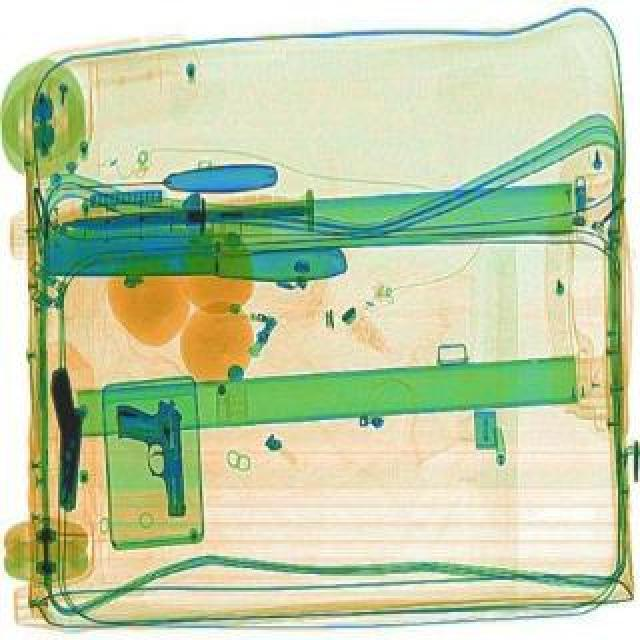gun: (116, 394, 188, 518), (48, 364, 88, 508)
knife: (42, 216, 346, 286), (42, 160, 278, 200), (60, 202, 304, 232)
